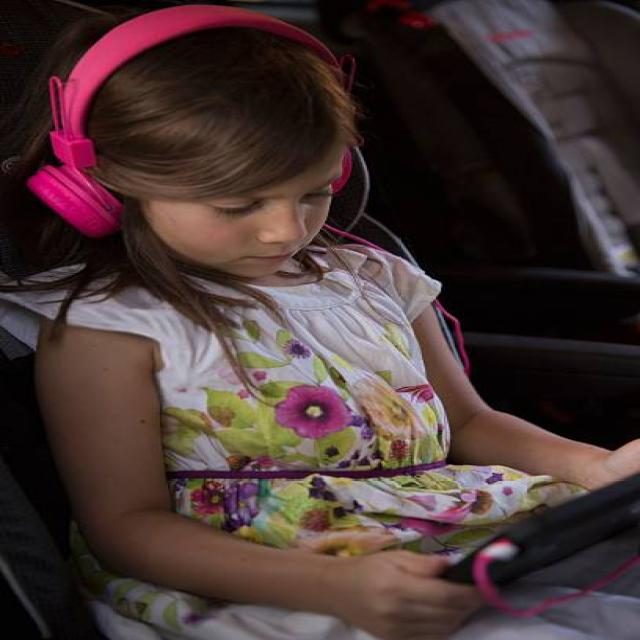Headphone: (23, 2, 356, 241)
